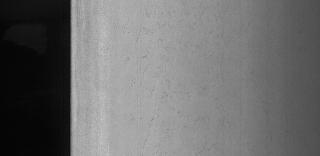silk spot: (122, 0, 215, 146)
